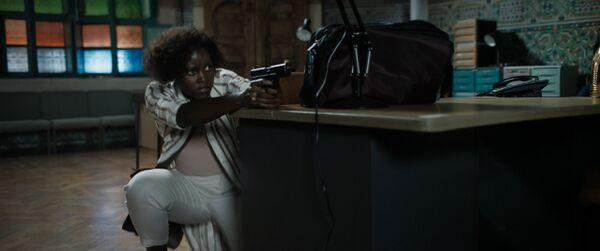Gun: (250, 59, 294, 85)
